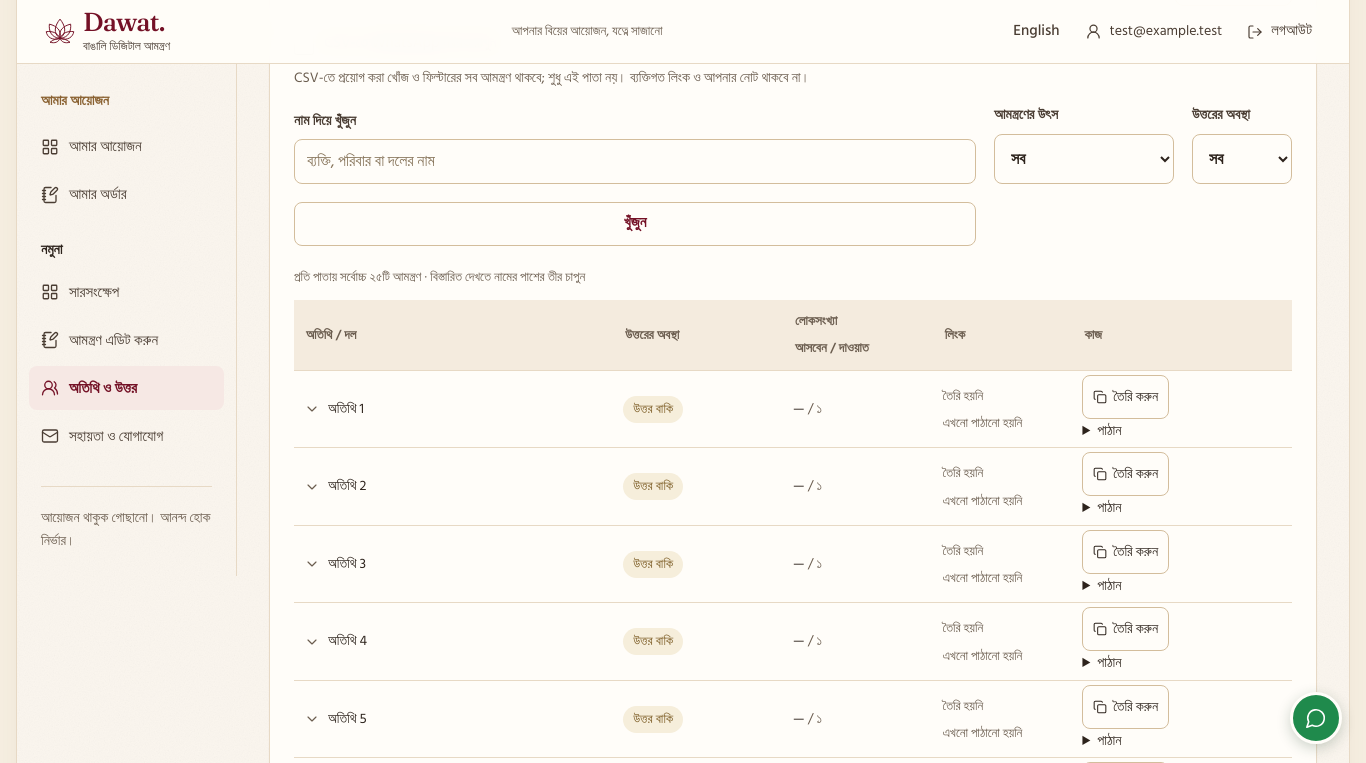
Test case: copies a personal link without opening a dialog when the clipboard works
This screenshot has width=1366, height=763.
(page scrolled)
Click the button with aria-label "তৈরি করে কপি করুন · অতিথি 1" at (1126, 397), box x1=1082 y1=375 x2=1169 y2=419
(page scrolled)
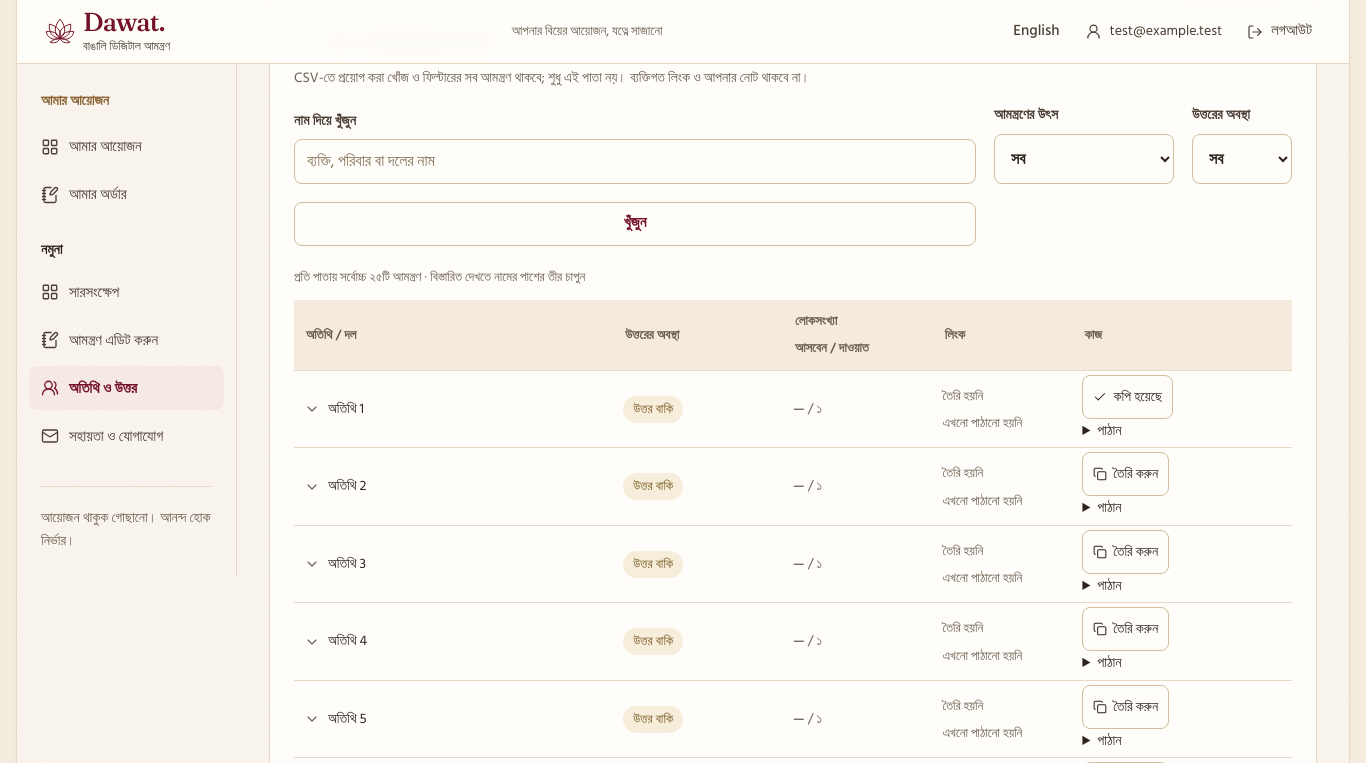
Result: the button with aria-label "কপি করুন · অতিথি 1" reads "কপি হয়েছে" at x1=1082 y1=375 x2=1173 y2=419
